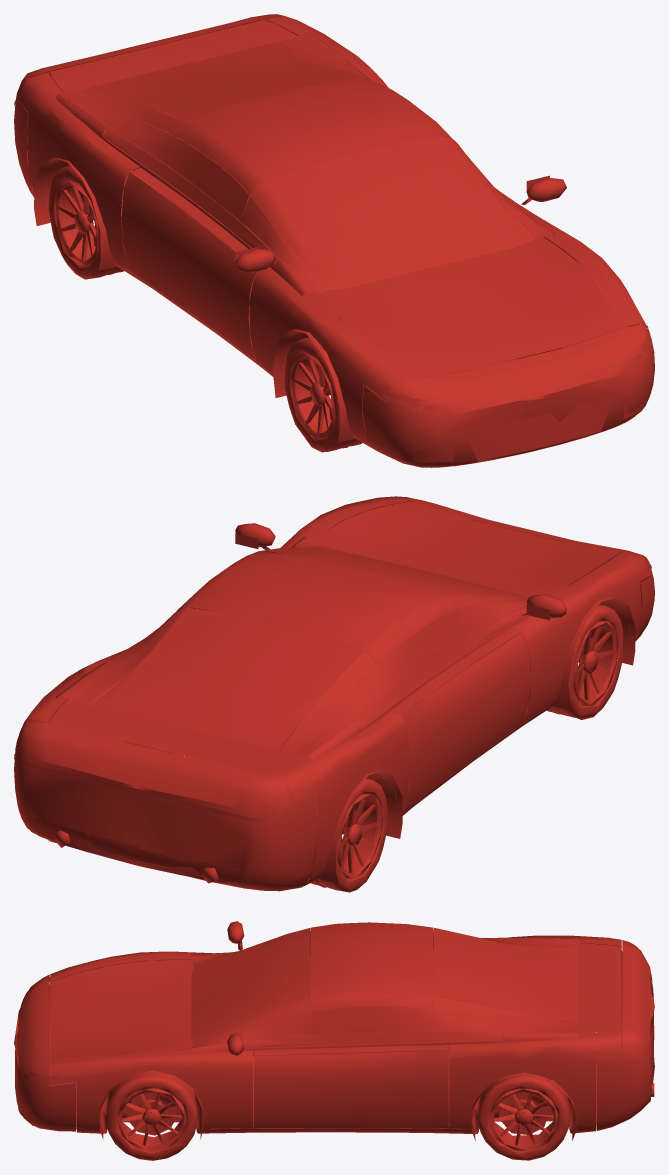
The model's file is car_gt_lod.glb.
3 renders of one model, top to bottom at view 1: azimuth 30°, elevation 25°; view 2: azimuth 150°, elevation 25°; view 3: azimuth 270°, elevation 25°, orthographic. The views are drawn at different scales.
Visible parts, largest first — view 1: car_lod; view 2: car_lod; view 3: car_lod.
Part boxes in pixels (x1,y1,x2,y2): car_lod: [14, 14, 654, 467]; car_lod: [14, 496, 654, 892]; car_lod: [14, 921, 654, 1160].
Size of the model in its own units: 2.14 by 1.21 by 4.57.
